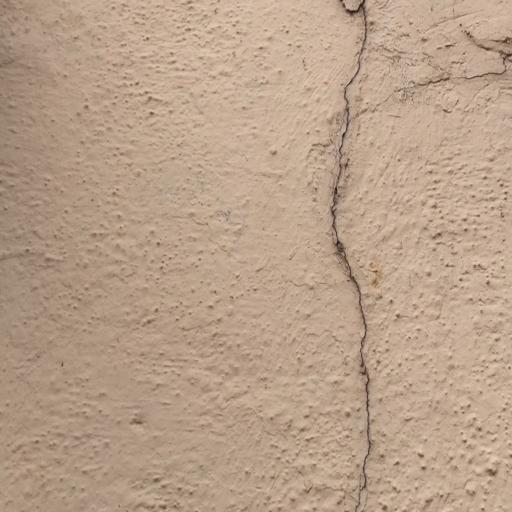minor_crack: (332, 0, 512, 512)
